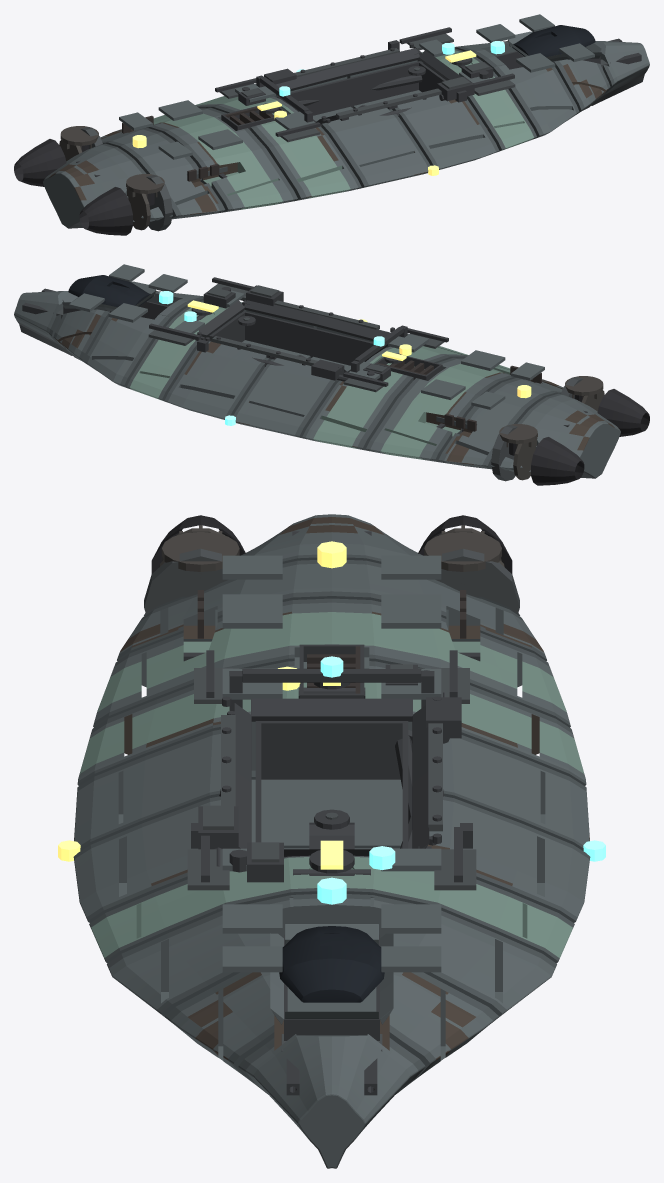
Rendered from drifter_production_v1_lod0.glb.
3 views of the same model, one above another, from view 1: azimuth 30°, elevation 25°; view 2: azimuth 150°, elevation 25°; view 3: azimuth 270°, elevation 25° (orthographic). The views are drawn at different scales.
Parts seen in each view (by area): view 1: LOD0_Hull, LOD0_Bracket_ForeP, LOD0_Collar_Port, LOD0_Bell_Port, LOD0_Glass, LOD0_Bell_Stbd, LOD0_HeatBand_Port, LOD0_CoolFin_Port_0, LOD0_Beacon_Aft, LOD0_Bell_Nozzle_Port, LOD0_Bell_Nozzle_Stbd, LOD0_Beacon_Fore; view 2: LOD0_Hull, LOD0_Bracket_ForeP, LOD0_Collar_Port, LOD0_Bell_Stbd, LOD0_Glass, LOD0_Bell_Port, LOD0_HeatBand_Port, LOD0_CoolFin_Port_0, LOD0_Beacon_Aft, LOD0_Bell_Nozzle_Stbd, LOD0_Bell_Nozzle_Port, LOD0_Beacon_Fore; view 3: LOD0_Hull, LOD0_Bracket_ForeP, LOD0_Collar_Port, LOD0_Glass, LOD0_Beacon_Fore, LOD0_Beacon_Aft, LOD0_Bell_Nozzle_Port, LOD0_Bell_Nozzle_Stbd, LOD0_CoolFin_Port_0, LOD0_Bell_Port, LOD0_Bell_Stbd.
Boxes of the visible parts, left/top/right/bottom form: LOD0_Hull: left=43, top=14, right=649, bottom=228; LOD0_Bracket_ForeP: left=76, top=27, right=641, bottom=182; LOD0_Collar_Port: left=80, top=33, right=610, bottom=231; LOD0_Bell_Port: left=79, top=187, right=132, bottom=235; LOD0_Glass: left=512, top=25, right=595, bottom=57; LOD0_Bell_Stbd: left=14, top=139, right=66, bottom=186; LOD0_HeatBand_Port: left=59, top=140, right=157, bottom=230; LOD0_CoolFin_Port_0: left=122, top=107, right=487, bottom=181; LOD0_Beacon_Aft: left=132, top=50, right=476, bottom=175; LOD0_Bell_Nozzle_Port: left=126, top=174, right=164, bottom=193; LOD0_Bell_Nozzle_Stbd: left=60, top=126, right=98, bottom=145; LOD0_Beacon_Fore: left=279, top=41, right=504, bottom=96; LOD0_Hull: left=14, top=264, right=620, bottom=478; LOD0_Bracket_ForeP: left=22, top=277, right=587, bottom=432; LOD0_Collar_Port: left=53, top=283, right=583, bottom=481; LOD0_Bell_Stbd: left=531, top=437, right=584, bottom=485; LOD0_Glass: left=68, top=275, right=151, bottom=307; LOD0_Bell_Port: left=597, top=389, right=649, bottom=436; LOD0_HeatBand_Port: left=506, top=390, right=604, bottom=480; LOD0_CoolFin_Port_0: left=176, top=360, right=541, bottom=431; LOD0_Beacon_Aft: left=187, top=300, right=531, bottom=398; LOD0_Bell_Nozzle_Stbd: left=499, top=424, right=537, bottom=443; LOD0_Bell_Nozzle_Port: left=565, top=376, right=603, bottom=395; LOD0_Beacon_Fore: left=159, top=291, right=384, bottom=425; LOD0_Hull: left=73, top=514, right=590, bottom=1168; LOD0_Bracket_ForeP: left=183, top=531, right=480, bottom=1095; LOD0_Collar_Port: left=144, top=548, right=519, bottom=1051; LOD0_Glass: left=279, top=926, right=384, bottom=1002; LOD0_Beacon_Fore: left=317, top=656, right=605, bottom=904; LOD0_Beacon_Aft: left=58, top=541, right=346, bottom=869; LOD0_Bell_Nozzle_Port: left=162, top=532, right=239, bottom=571; LOD0_Bell_Nozzle_Stbd: left=424, top=532, right=501, bottom=571; LOD0_CoolFin_Port_0: left=197, top=590, right=466, bottom=693; LOD0_Bell_Port: left=151, top=515, right=245, bottom=573; LOD0_Bell_Stbd: left=418, top=515, right=512, bottom=573.
Size of what is drawn, in the model's own units: 16.81 by 2.83 by 6.76.
